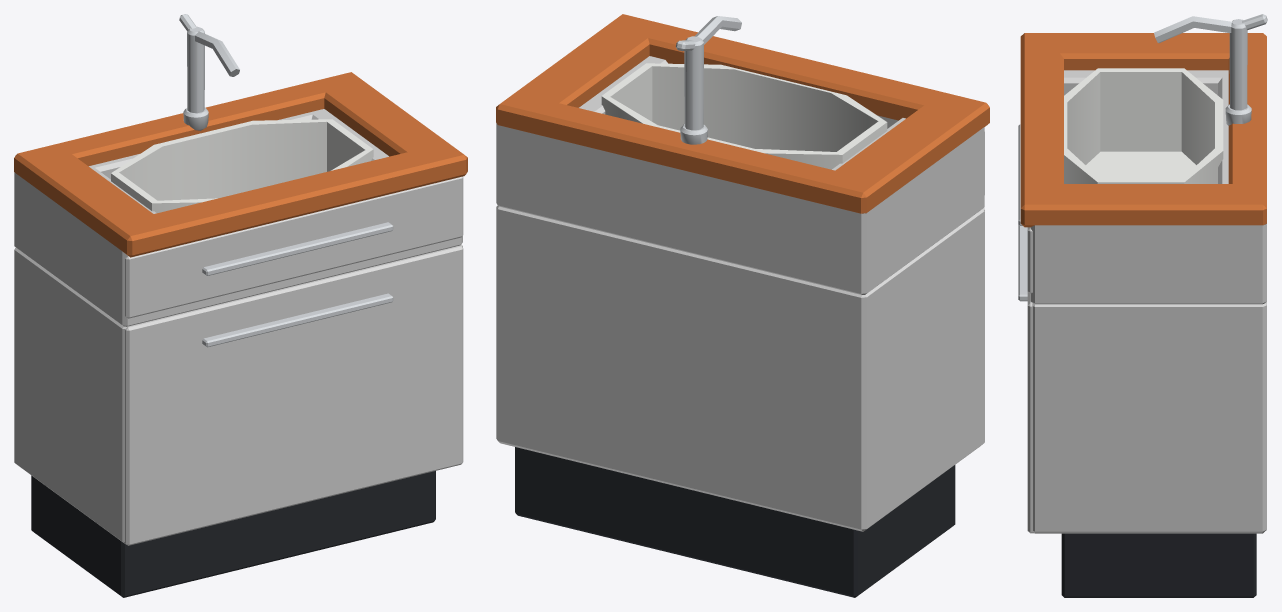
File: basin-vanity-800.glb
3 views of the same model, side by side, from view 1: azimuth 30°, elevation 25°; view 2: azimuth 150°, elevation 25°; view 3: azimuth 270°, elevation 25° (orthographic). The views are drawn at different scales.
Visible parts, largest first — view 1: basin-vanity-800.tint, basin-vanity-800.accent, basin-vanity-800.graphite, basin-vanity-800.ceramic, basin-vanity-800.chrome; view 2: basin-vanity-800.tint, basin-vanity-800.accent, basin-vanity-800.graphite, basin-vanity-800.ceramic, basin-vanity-800.chrome; view 3: basin-vanity-800.tint, basin-vanity-800.accent, basin-vanity-800.ceramic, basin-vanity-800.graphite, basin-vanity-800.chrome.
Boxes of the visible parts, x1,y1,x2,y2 form: basin-vanity-800.tint: (14,109,463,545); basin-vanity-800.accent: (14,72,467,257); basin-vanity-800.graphite: (31,471,435,597); basin-vanity-800.ceramic: (111,119,373,213); basin-vanity-800.chrome: (179,14,393,347); basin-vanity-800.tint: (496,56,984,531); basin-vanity-800.accent: (496,14,989,213); basin-vanity-800.graphite: (515,447,955,597); basin-vanity-800.ceramic: (601,63,887,169); basin-vanity-800.chrome: (676,16,741,144); basin-vanity-800.tint: (1027,70,1266,533); basin-vanity-800.accent: (1020,33,1266,227); basin-vanity-800.ceramic: (1064,68,1223,183); basin-vanity-800.graphite: (1061,533,1256,597); basin-vanity-800.chrome: (1018,14,1267,301).
Bounding box in the file's own units: 0.8 × 1.07 × 0.48.
